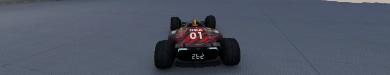Car: (153, 14, 240, 68)
